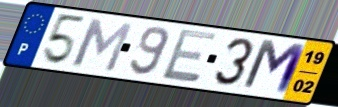3: (212, 37, 257, 89)
5: (39, 13, 90, 66)
9: (128, 25, 170, 78)
E: (159, 27, 220, 84)
M: (238, 37, 310, 98), (70, 16, 136, 74)
